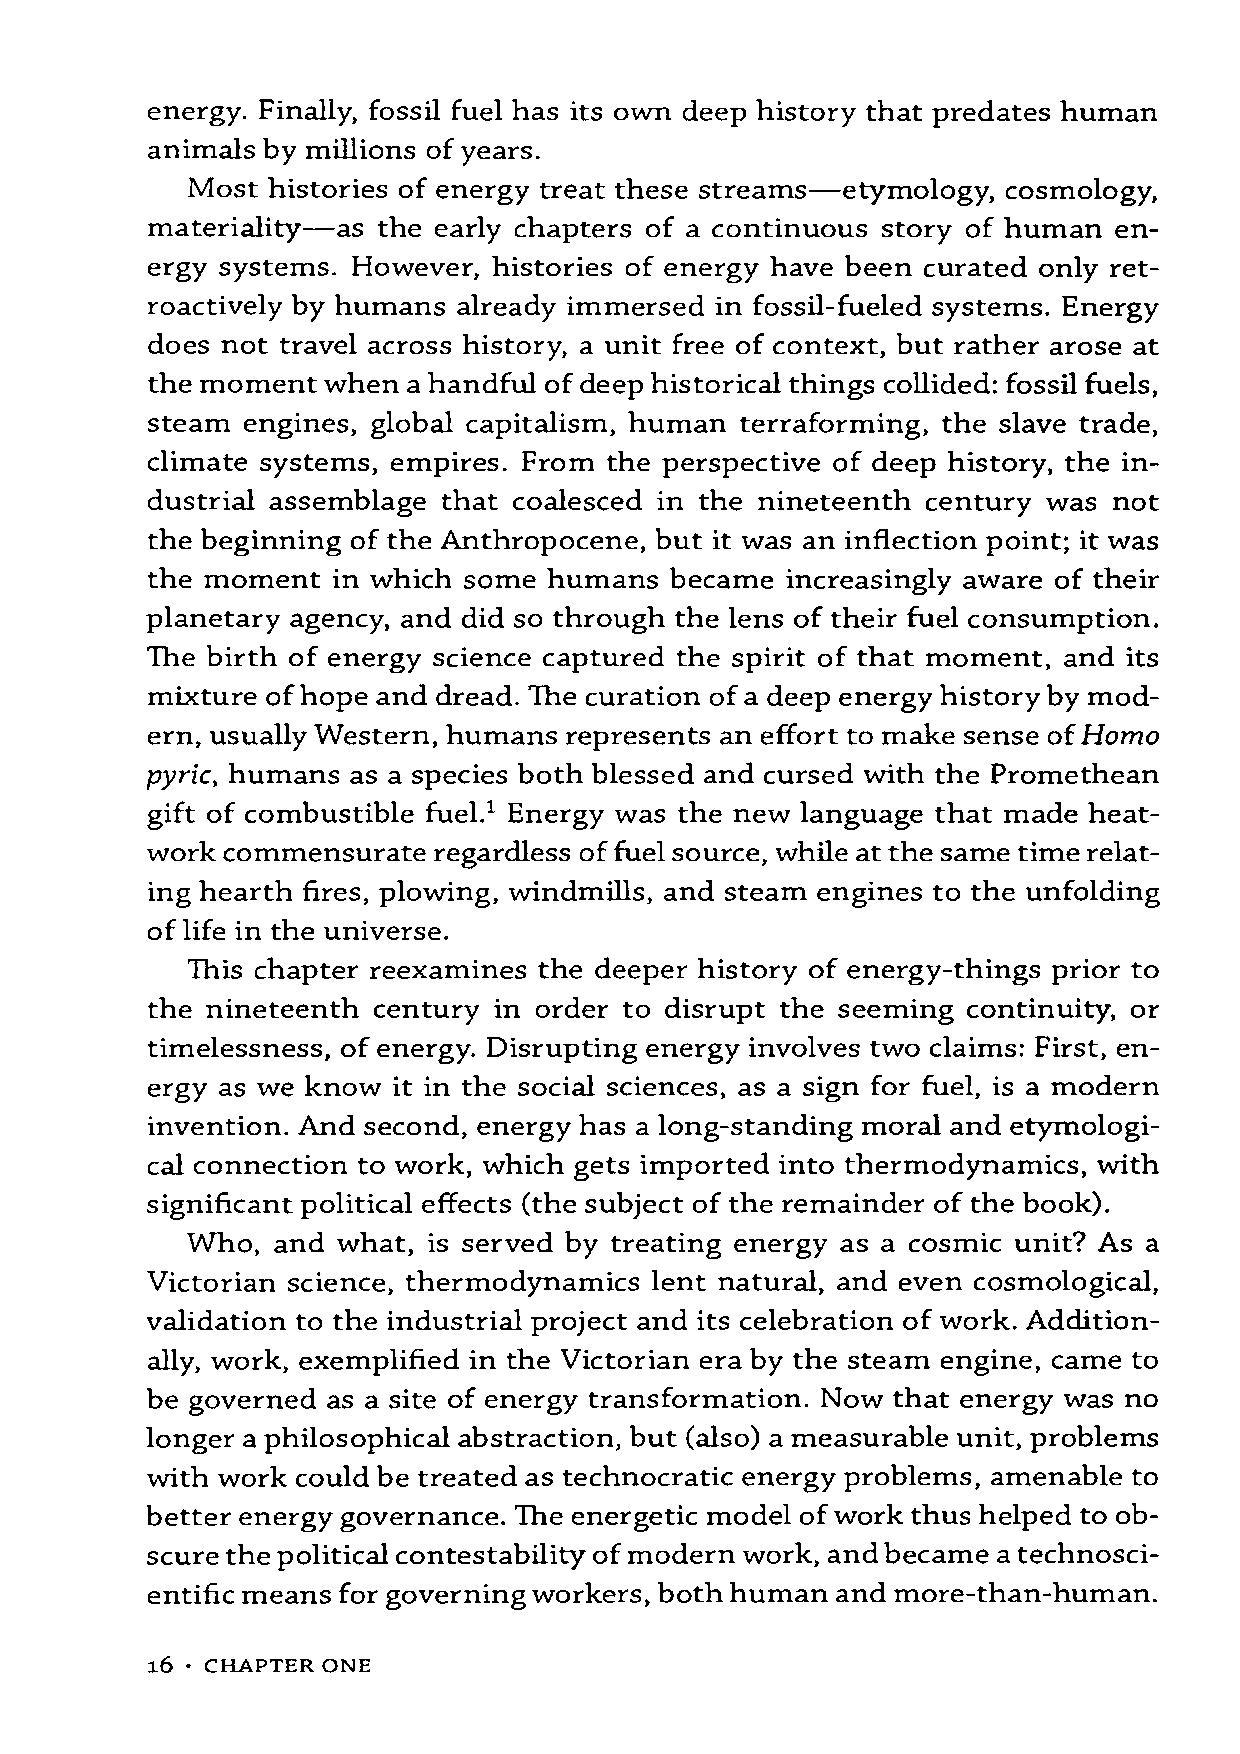content: (141, 93, 1165, 1617)
content_pagenumber: (144, 1652, 174, 1676)
